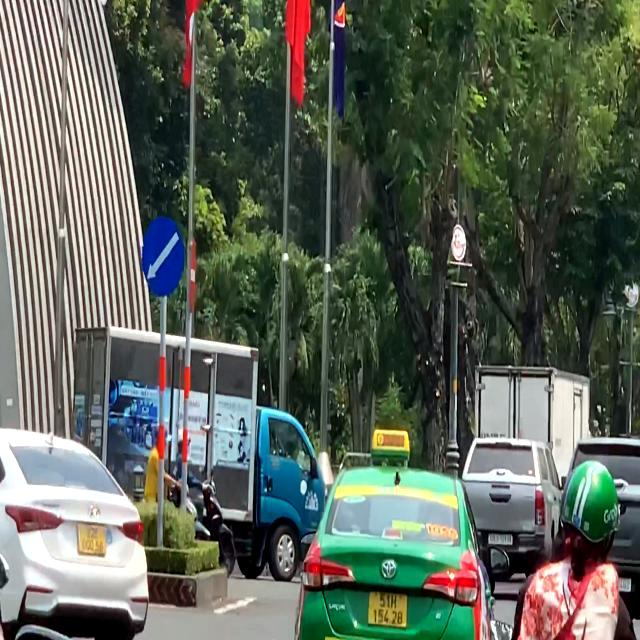Vong chuong ngai vat sang trai: (139, 216, 185, 300)
